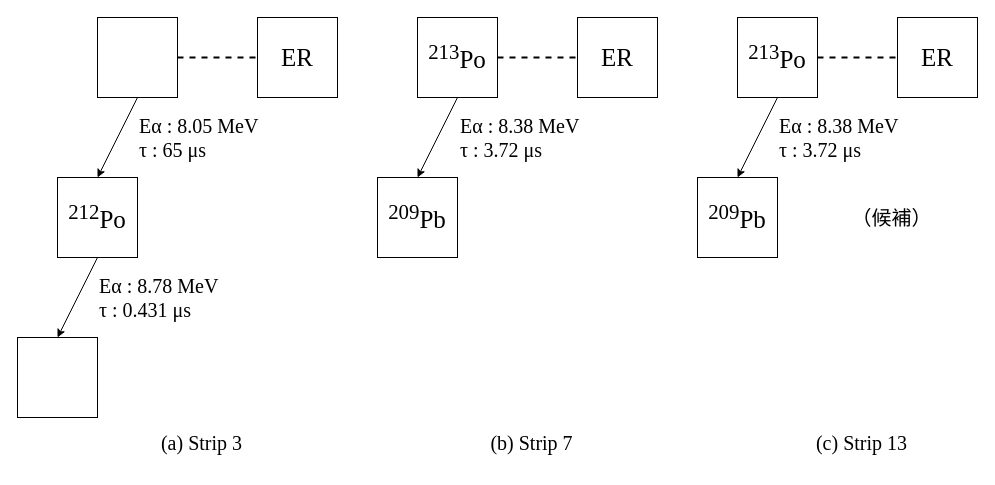
The diagram is 995 pixels wide and 485 high, and some of its shapes have lost their labels. Each missing label, with the centre of its shape:
208 Pb: the point at 57,377
216 Rn: the point at 137,57
